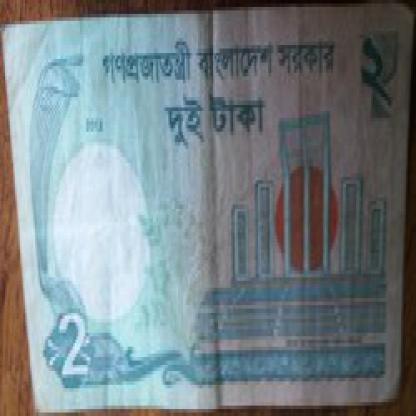two taka: (57, 302, 112, 395), (358, 28, 398, 121)
